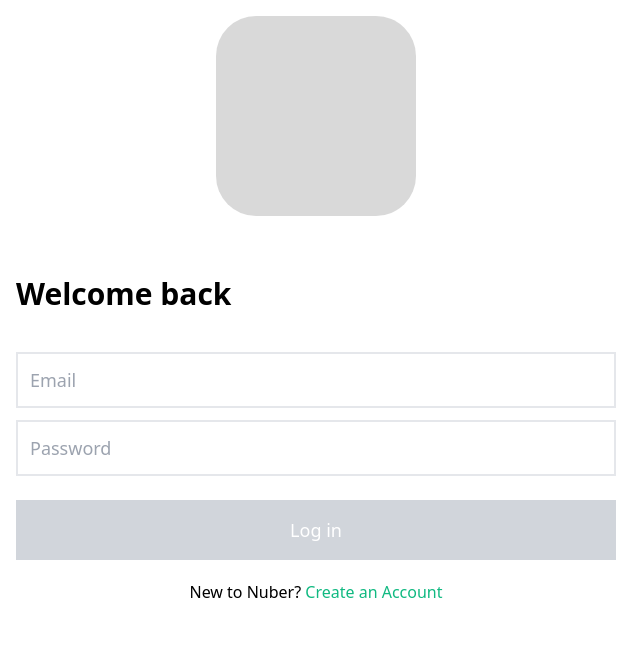
Scenario: Log In › can see email / password validation error
Type "bad@email" into the field with placeholder "Email".
click(316, 380); type("bad@email")  # box [16,352,616,408]
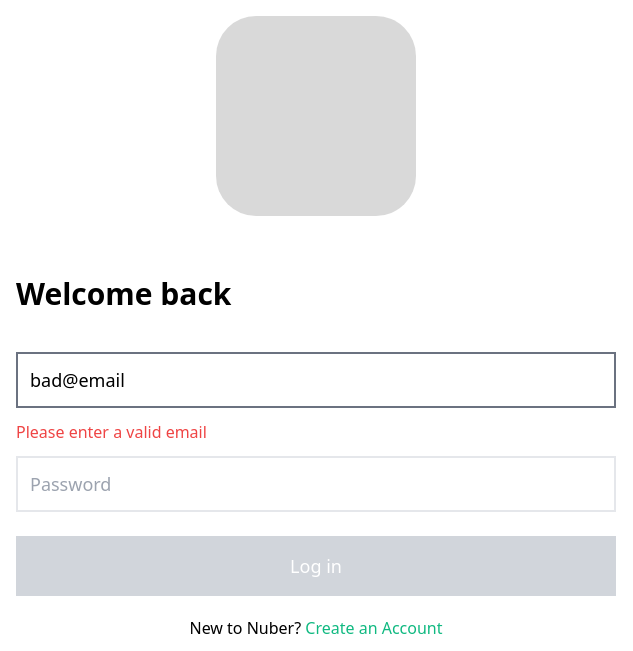
Check: the message reads "Please enter a valid email", box [16,421,207,443]
Clear the field with placeholder "Email" at (316, 380), box [16,352,616,408]
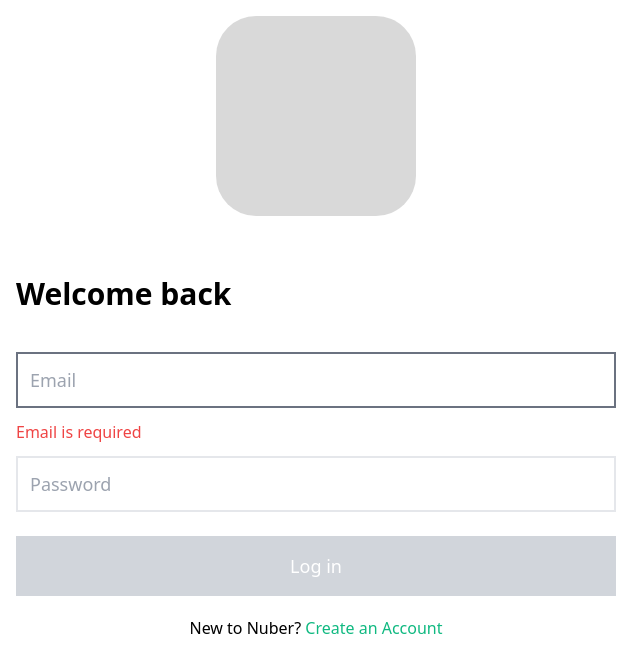
Check: the message reads "Email is required", box [16,421,142,443]
Type "bad@email.com" into the field with placeholder "Email".
click(316, 380); type("bad@email.com")  # box [16,352,616,408]
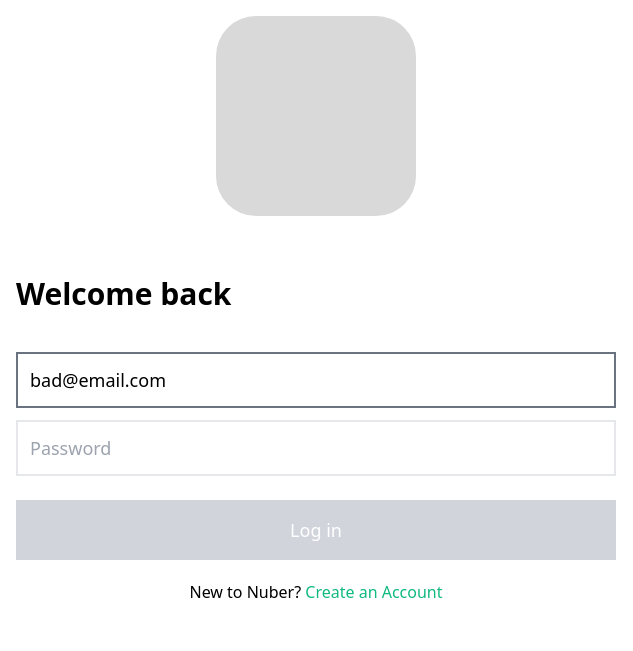
Type "test" into the password field with placeholder "Password".
click(316, 448); type("test")  # box [16,420,616,476]
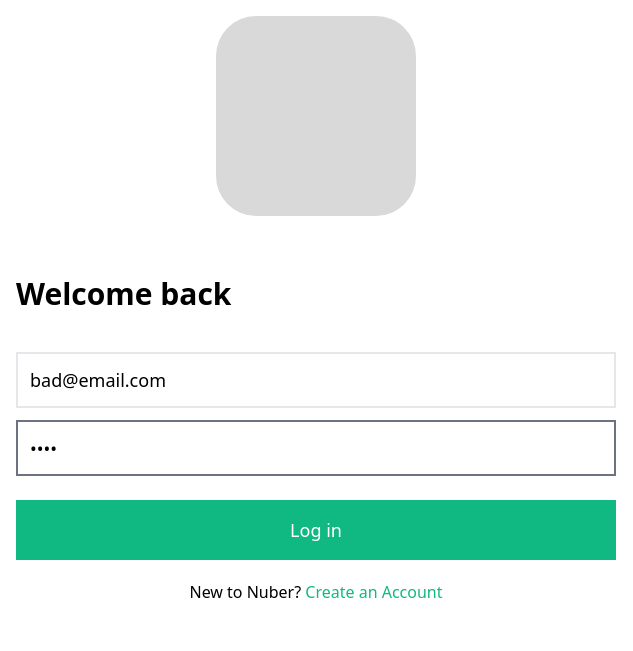
Clear the password field with placeholder "Password" at (316, 448), box [16,420,616,476]
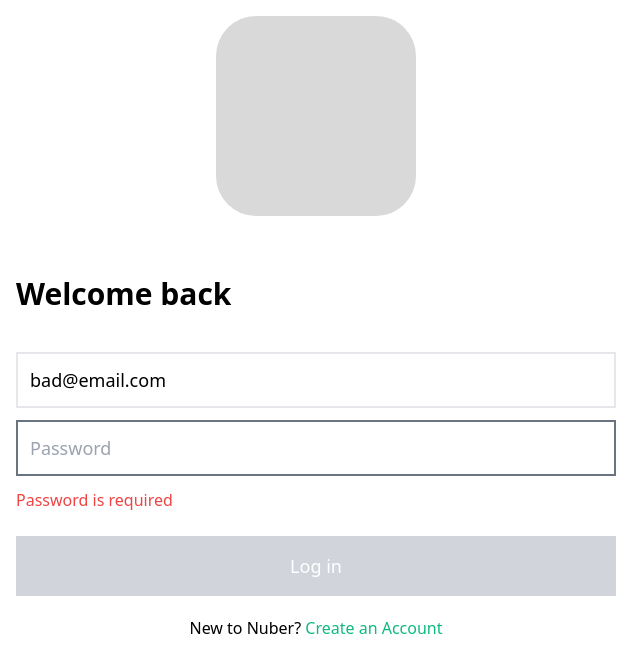
Check: the message reads "Password is required", box [16,489,173,511]
